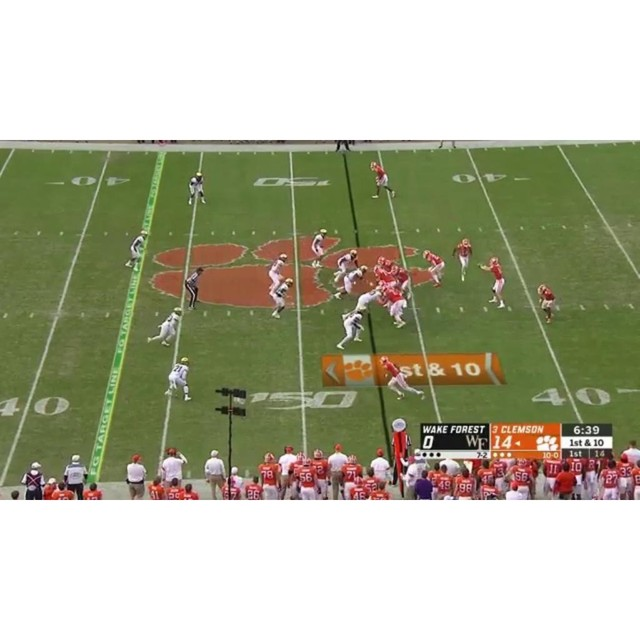american-football-player: (380, 356, 424, 400), (479, 256, 507, 309), (147, 306, 183, 346), (336, 306, 366, 350), (381, 281, 408, 328), (332, 265, 367, 300), (164, 356, 191, 400), (370, 160, 396, 199), (270, 277, 294, 319), (124, 230, 149, 270), (333, 249, 359, 285), (267, 253, 287, 299), (423, 249, 445, 289), (355, 284, 384, 314), (453, 237, 472, 282), (538, 283, 558, 323), (187, 171, 207, 205), (311, 228, 327, 267), (372, 266, 396, 287)
referee: (184, 265, 206, 311)
